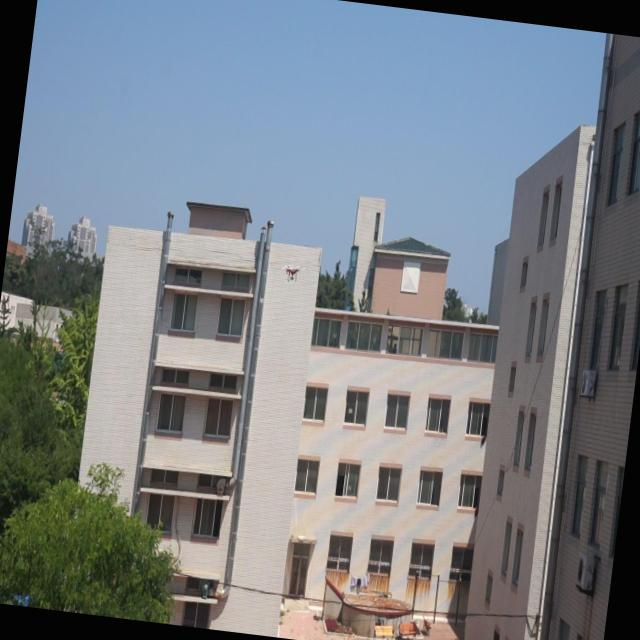drone: (278, 262, 304, 286)
